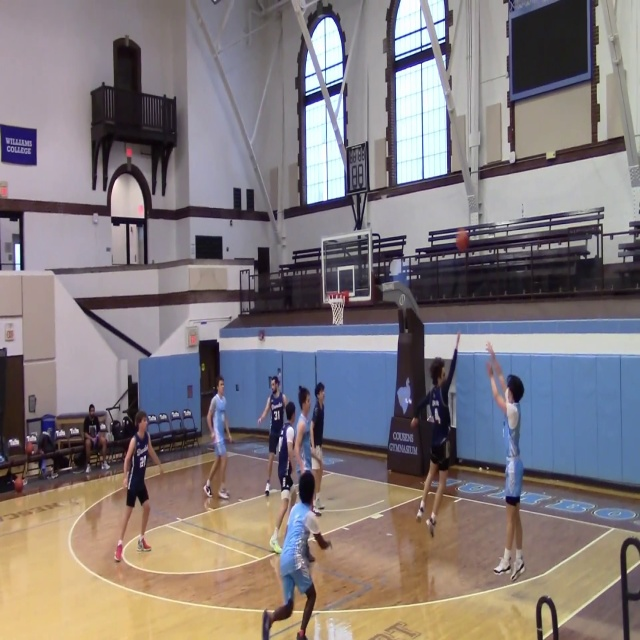Basketball: (455, 230, 469, 251), (14, 477, 24, 493)
